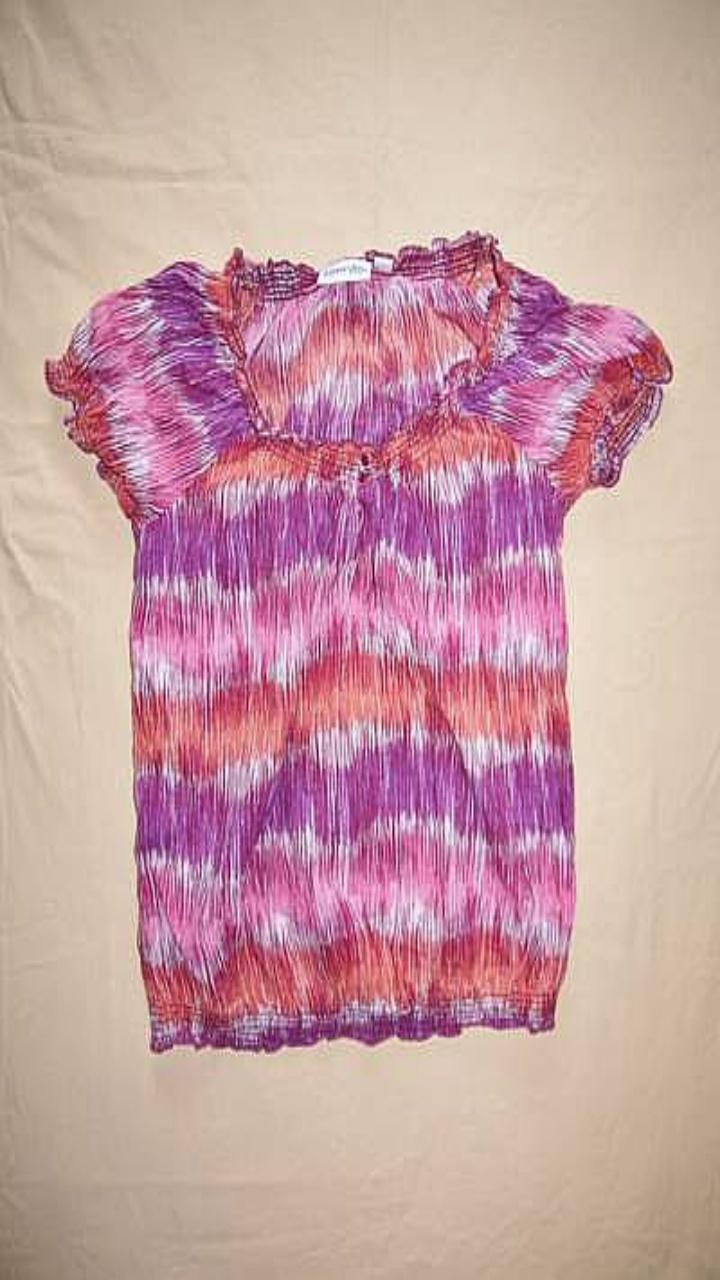T-Shirt: (45, 231, 671, 1051)
